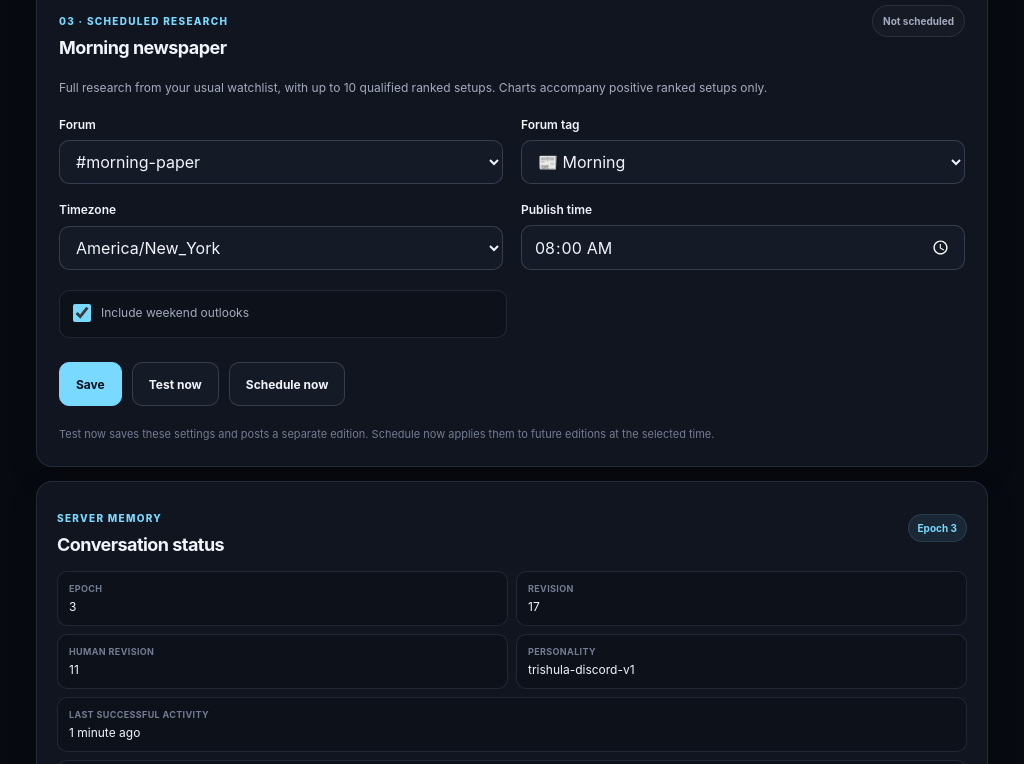
Discord control surface › does not claim Scheduled when the backend rejects scheduling
(page scrolled)
Click the button "Schedule now": point(287, 384) x1=229 y1=362 x2=346 y2=406
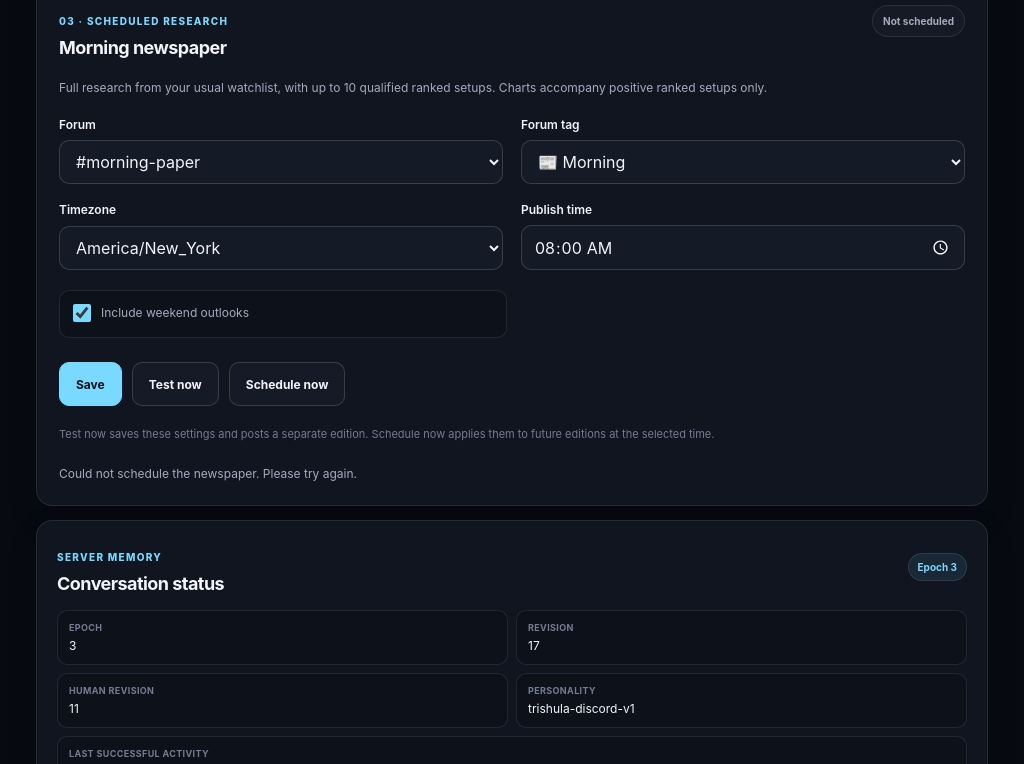
Now the text "Could not schedule the newspaper. Please try again." is shown, box x1=59 y1=466 x2=357 y2=481
